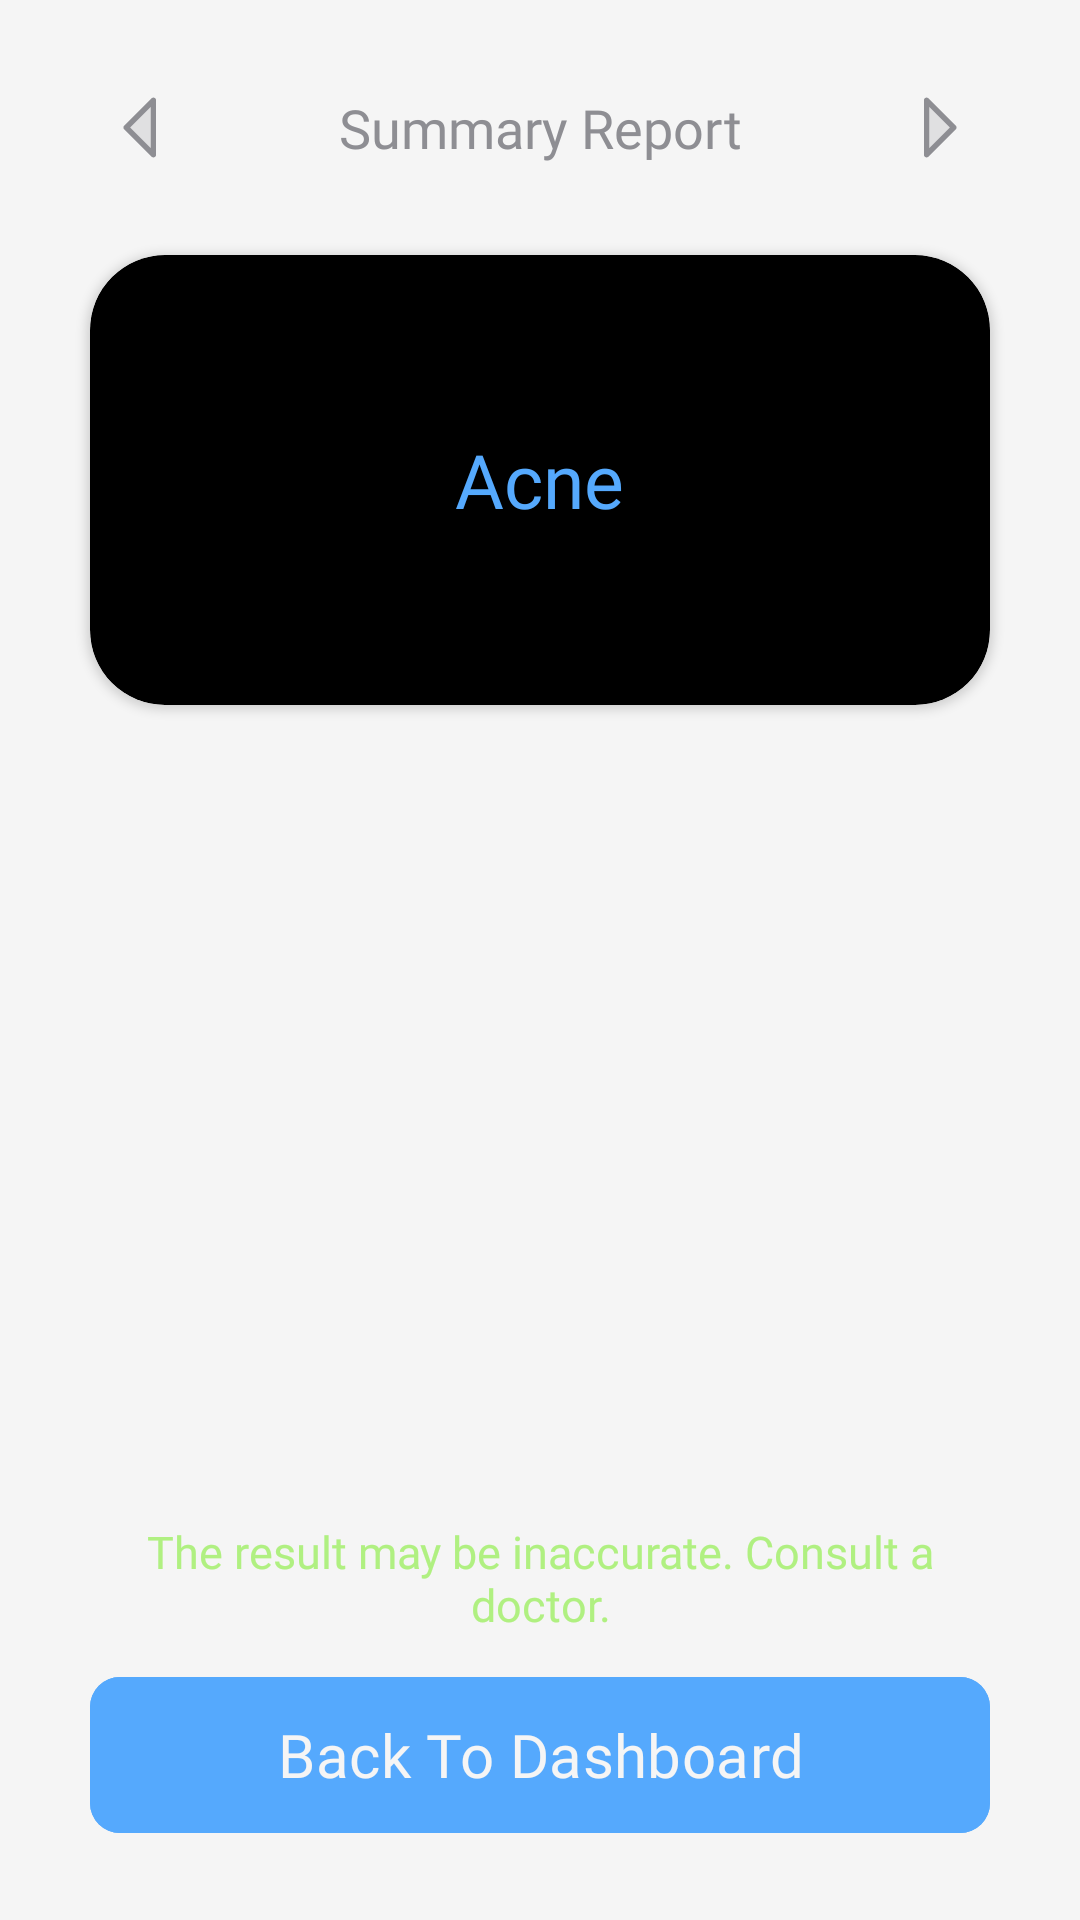

Icons on this 1080*1920 Android screen, each with its box as (x1, y1, x2, y2):
arrow left: (123, 97, 156, 158)
arrow right: (924, 97, 957, 158)
